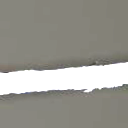crackTip: (1, 80, 127, 127)
